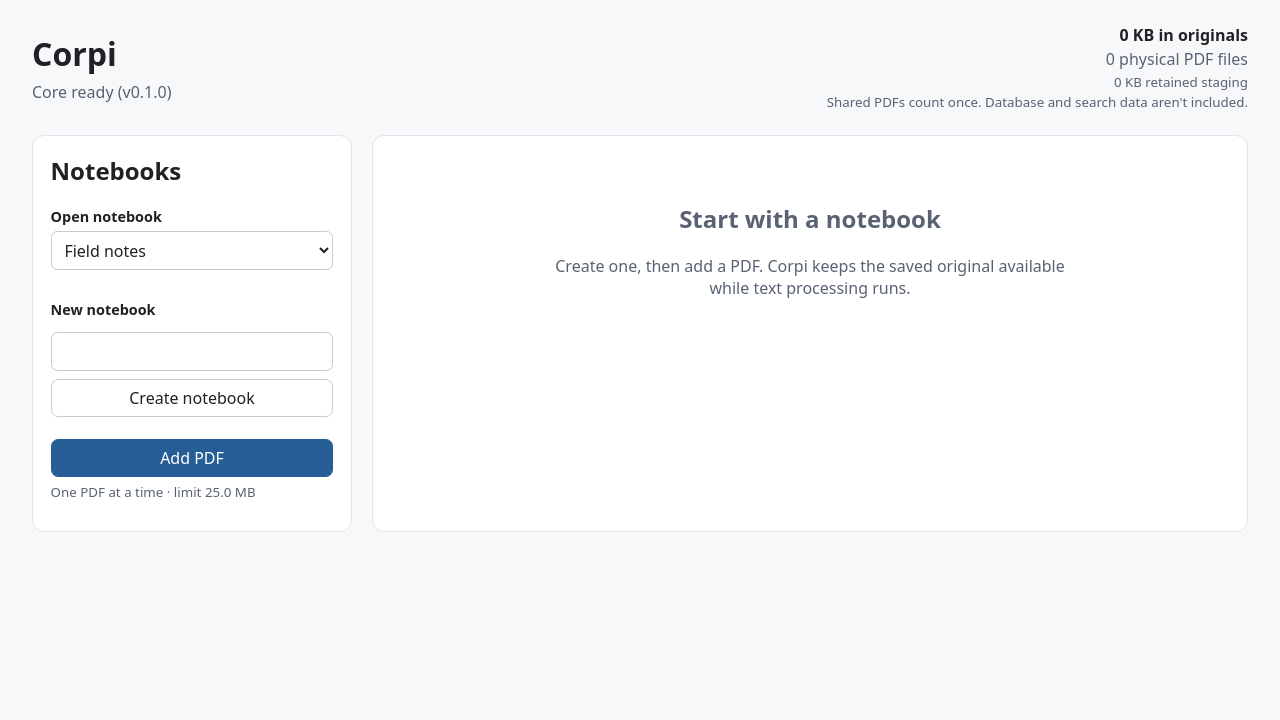
Test case: ignores a previous notebook's discovery reply after switching notebooks
Select "Other notebook" in the dropdown labelled "Open notebook": [192, 251] box [51,231,333,270]
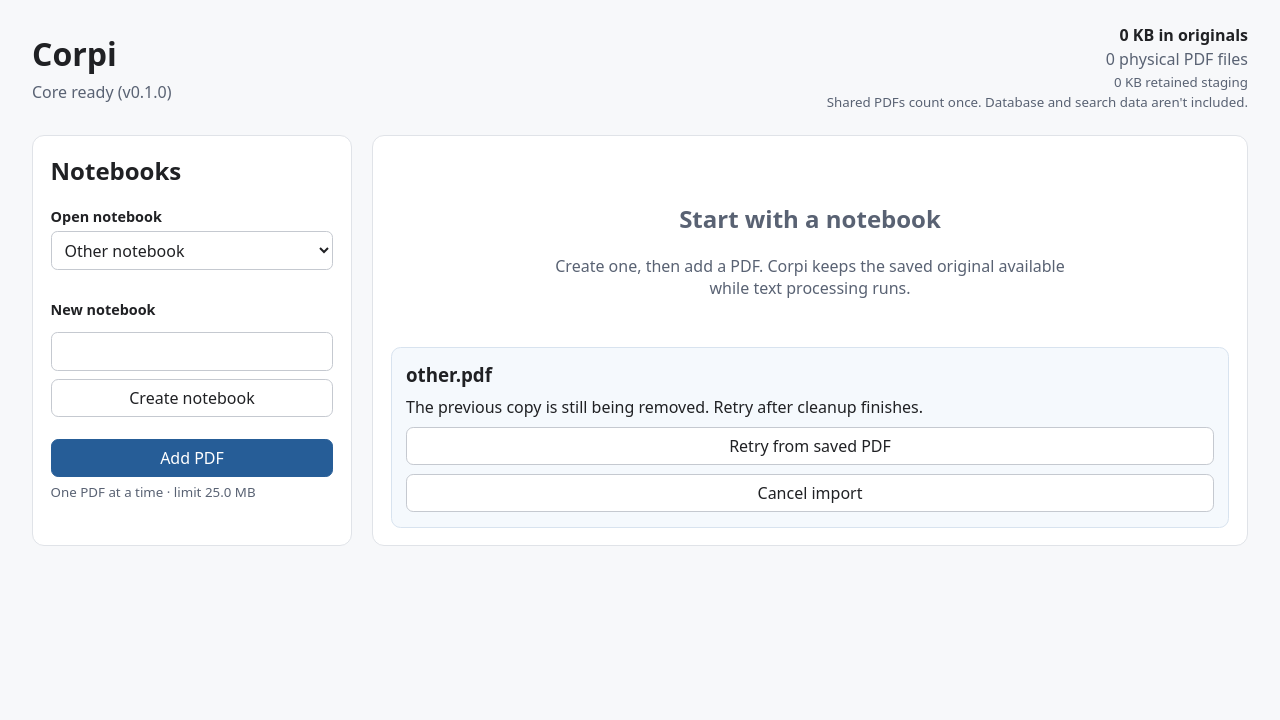
Expected: the element named "PDF import status: other.pdf" is shown, [391,347,1229,528]
